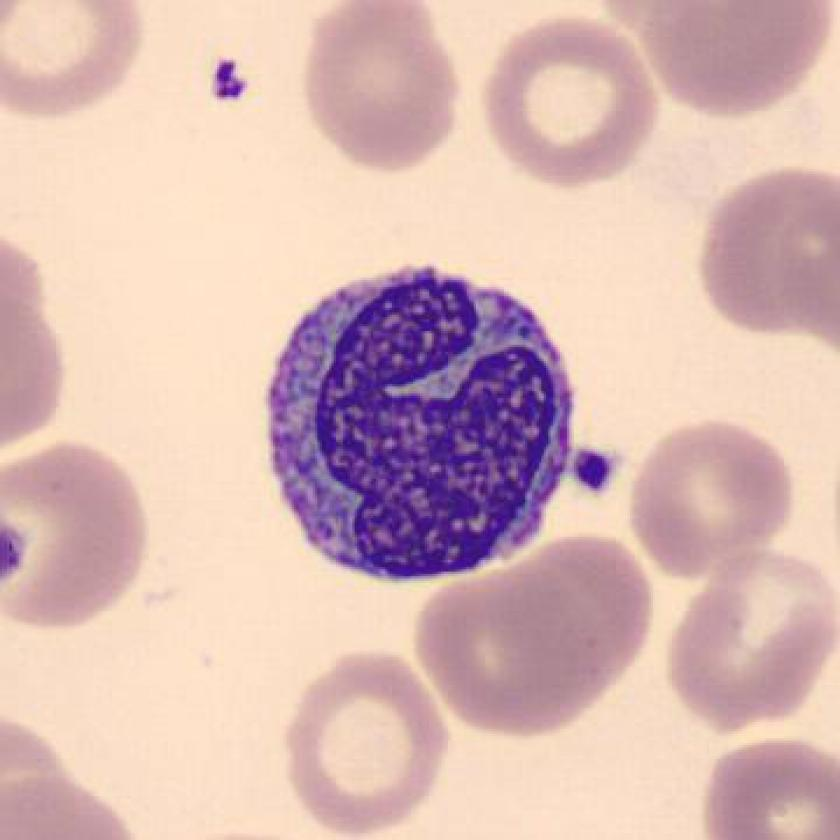monocyte: (246, 246, 594, 605)
